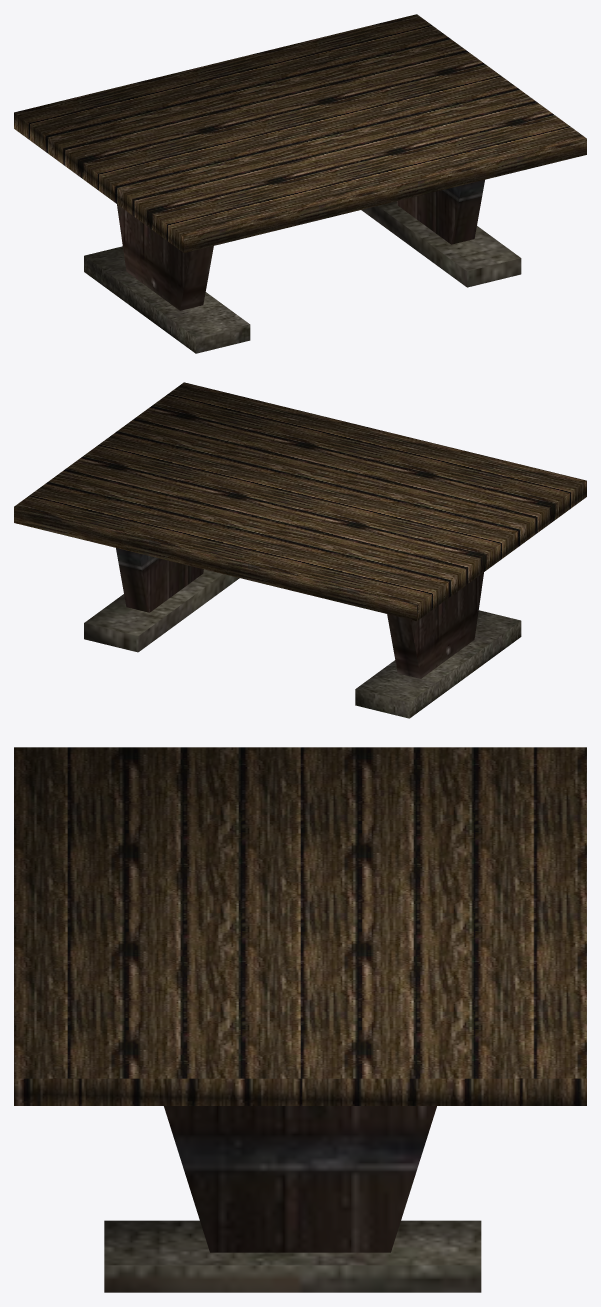
Rendered from OC_LOB_TABLE_HEAVY.glb.
3 renders of one model, top to bottom at view 1: azimuth 30°, elevation 25°; view 2: azimuth 150°, elevation 25°; view 3: azimuth 270°, elevation 25°, orthographic. The views are drawn at different scales.
Visible parts, largest first — view 1: Mesh; view 2: Mesh; view 3: Mesh.
Part boxes in pixels (x1=…): Mesh: x1=14, y1=14, x2=586, y2=353; Mesh: x1=14, y1=382, x2=586, y2=718; Mesh: x1=14, y1=747, x2=586, y2=1292.
Bounding box in the file's own units: 2.6 × 0.9 × 1.9.
Materials: 3 (3 with a texture image).
